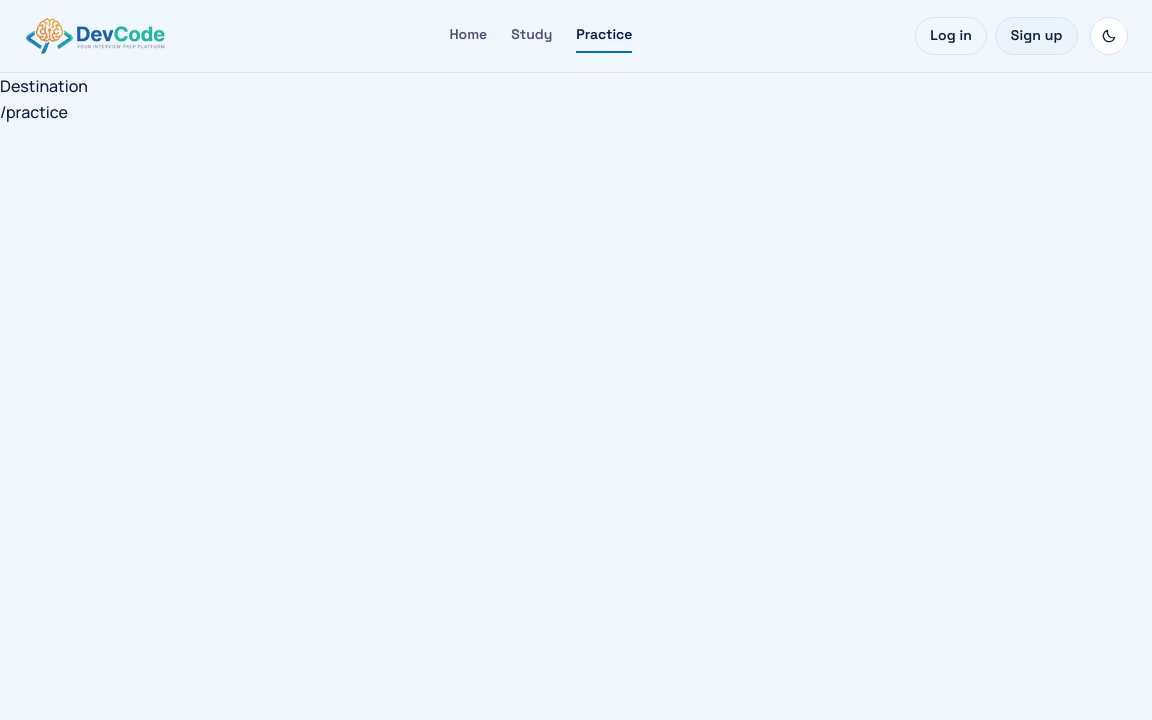
Test: navigation guard › keeps the guard active after Stay
Click the link "Study". click: {"x": 532, "y": 34}
box: [511,26,552,44]
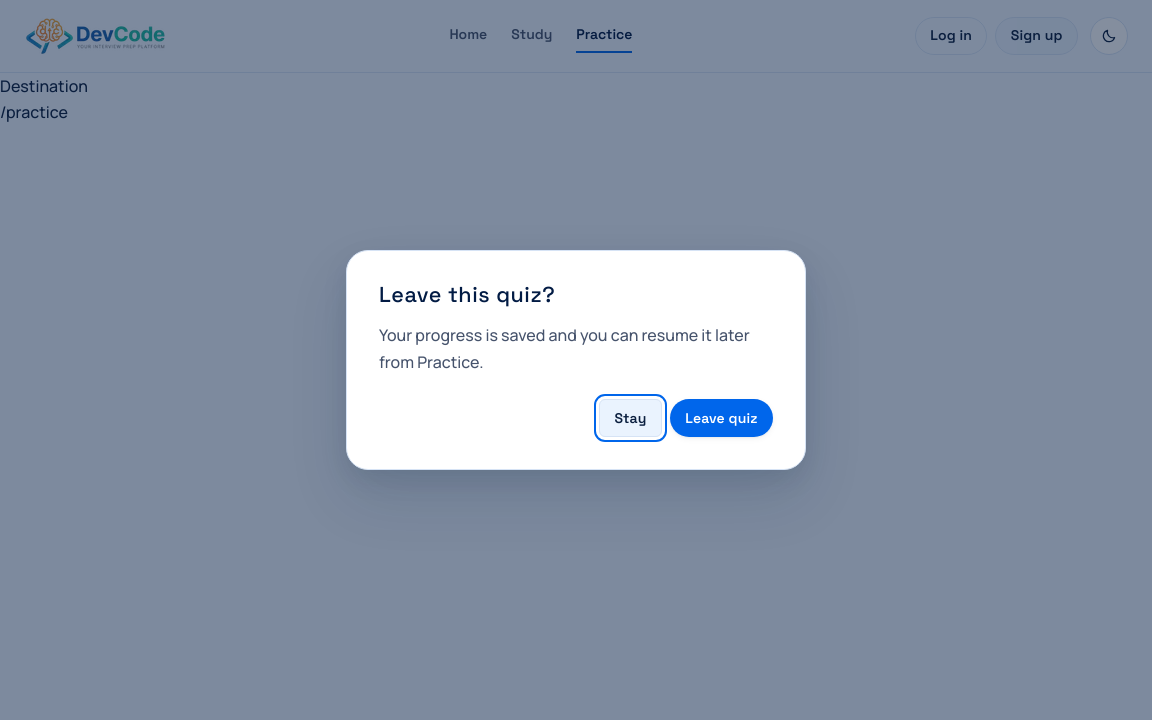
Click the button "Stay". click: {"x": 630, "y": 418}
box: [599,399,662,437]
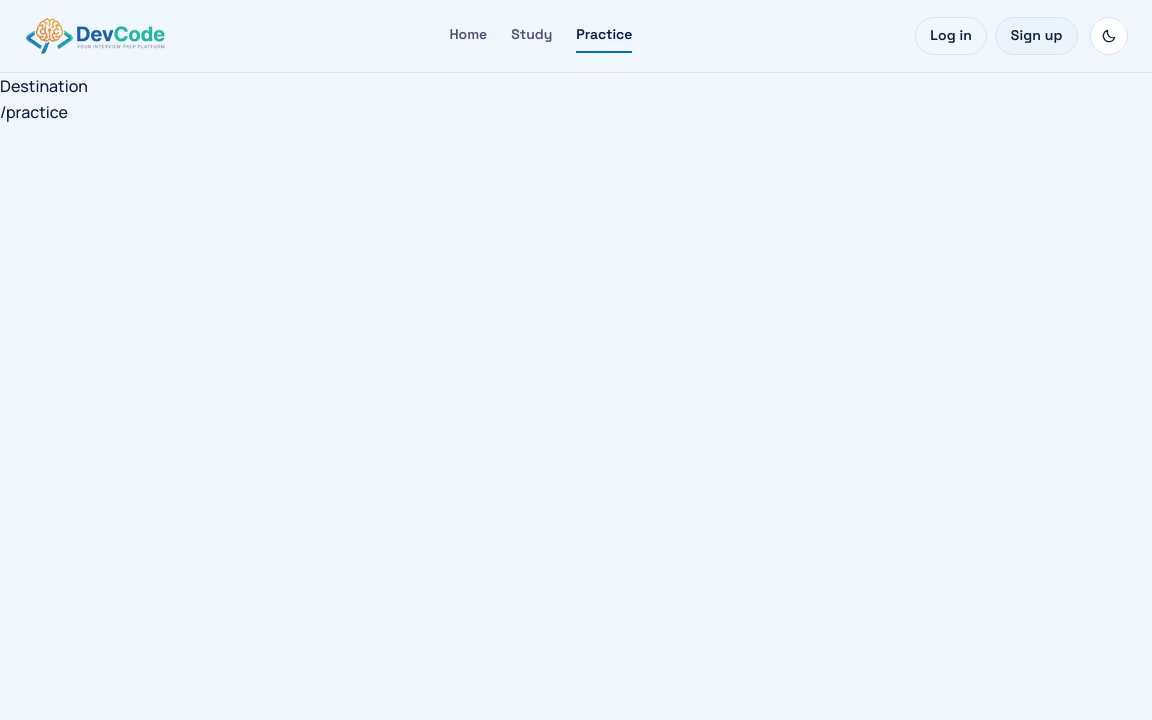
Click the link "Study". click: {"x": 532, "y": 34}
box: [511,26,552,44]
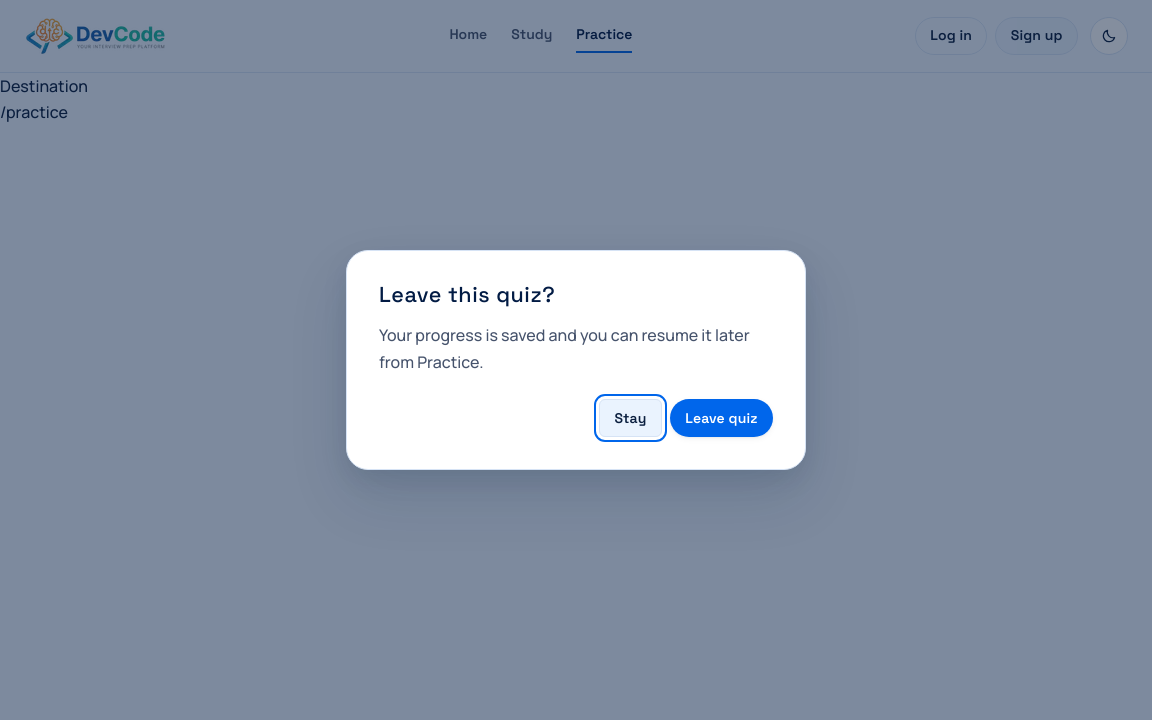
Check: the text with test id "location" reads "/practice", box [0,101,68,123]
Check: the dialog is shown, box [346,250,806,470]
